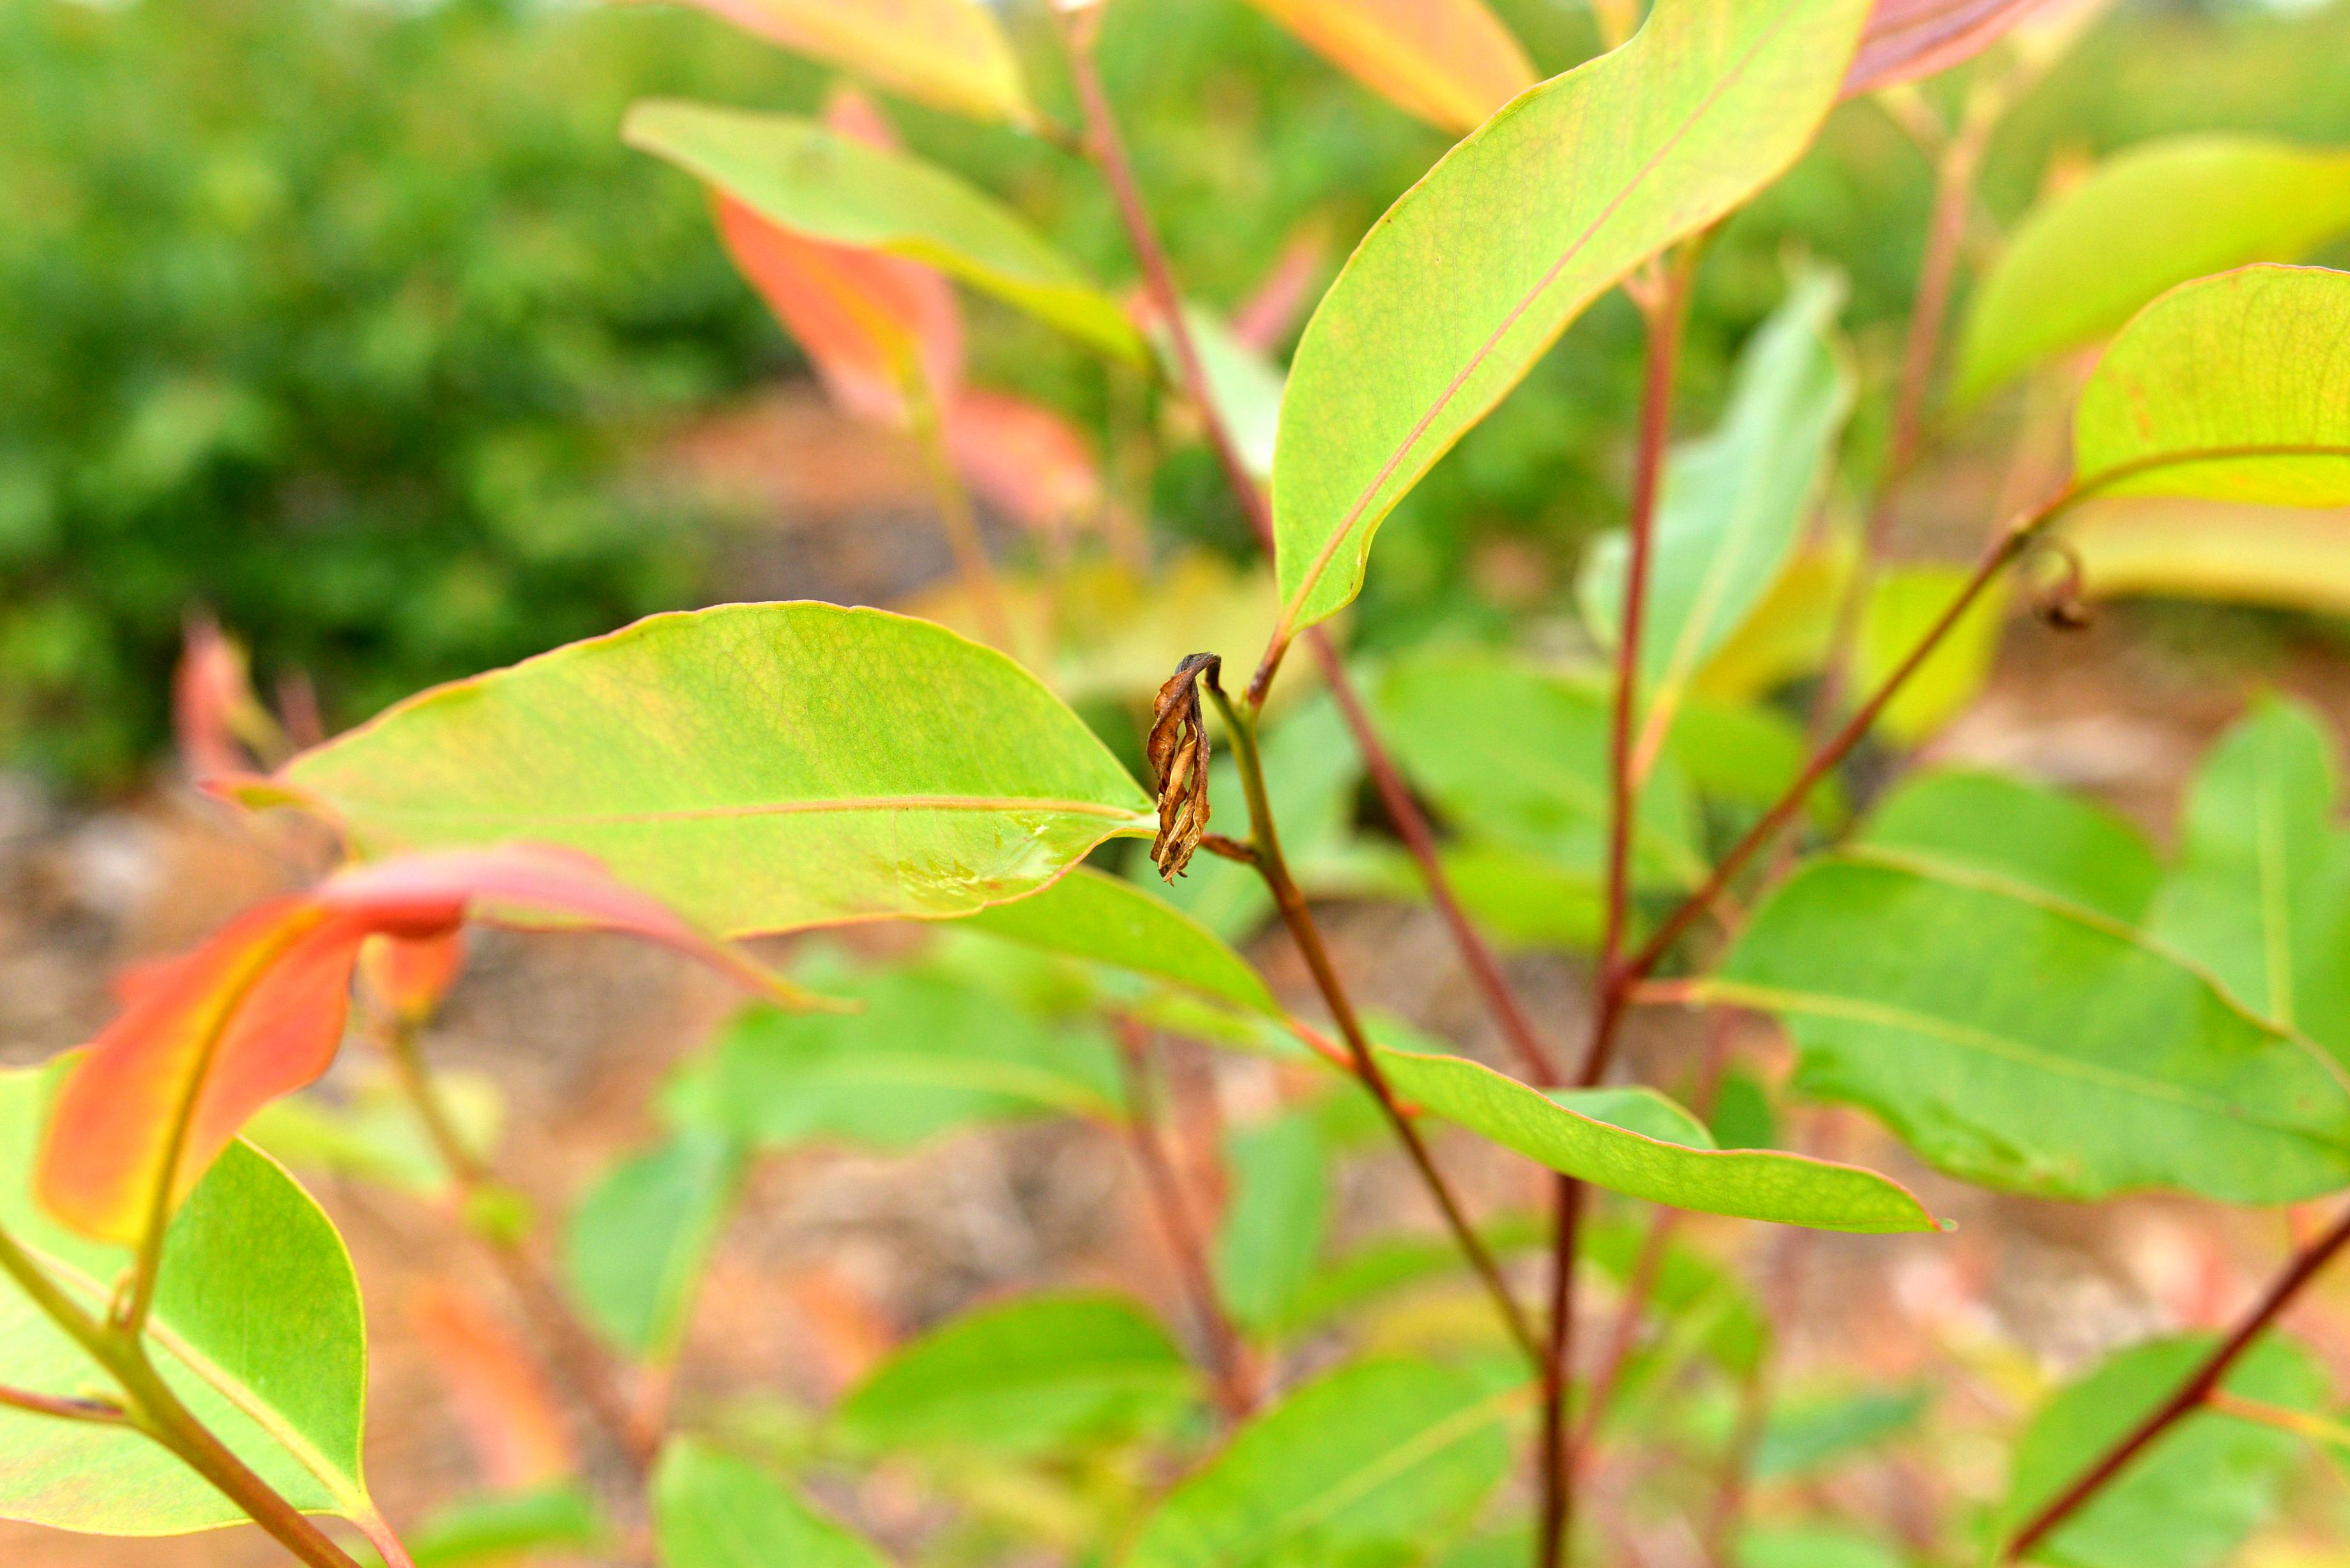Helopeltis-Withered Sprout: (2012, 507, 2107, 646), (1157, 740, 1237, 887), (1151, 668, 1195, 796), (1160, 733, 1202, 840), (1153, 828, 1183, 861)
